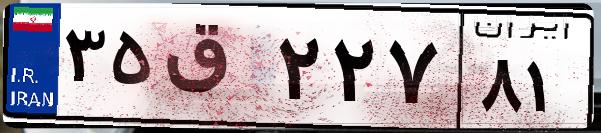1: (525, 38, 570, 115)
2: (270, 28, 330, 110), (330, 28, 385, 110)
3: (57, 26, 110, 100)
5: (110, 28, 158, 98)
7: (385, 28, 445, 110)
8: (475, 38, 525, 113)
ق: (158, 20, 270, 120)
